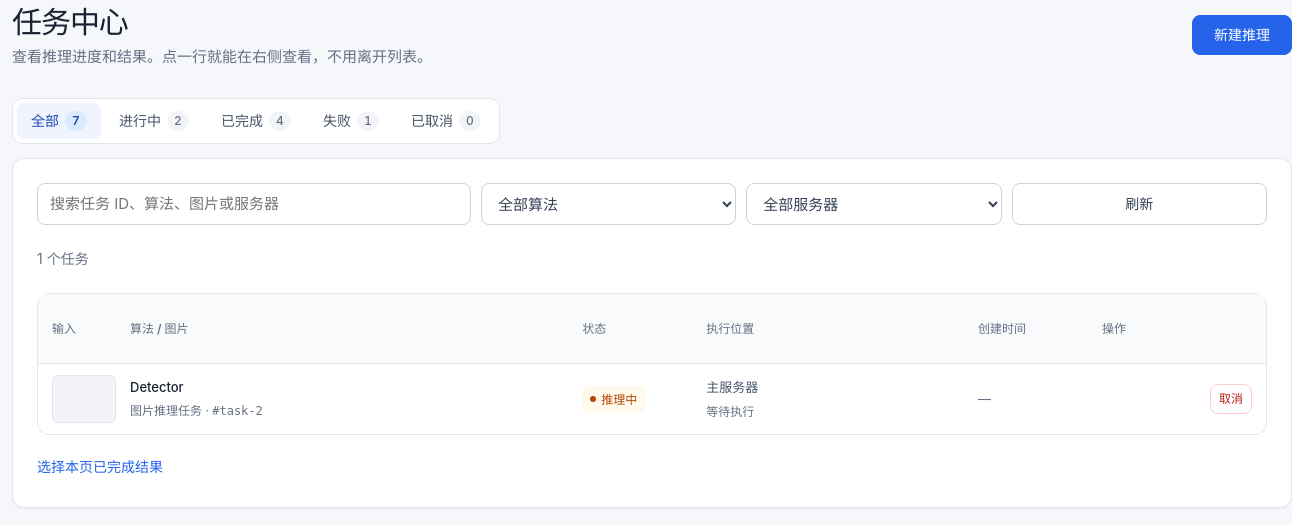
Test case: task center › removes finished tasks from the active tab and reloads the filtered total
Click the button "进行中 2".
click(154, 121)  # box [105,103,203,139]
Wait 2500 ms
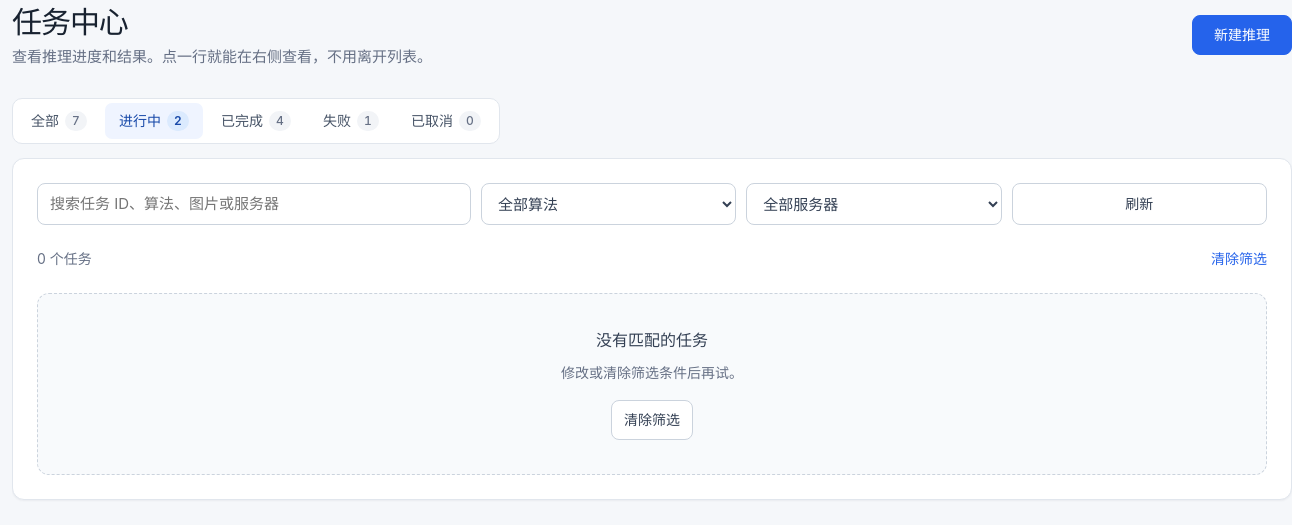
expect the element with class "toolbar" shows "0 个任务": met, box [37,250,92,267]
